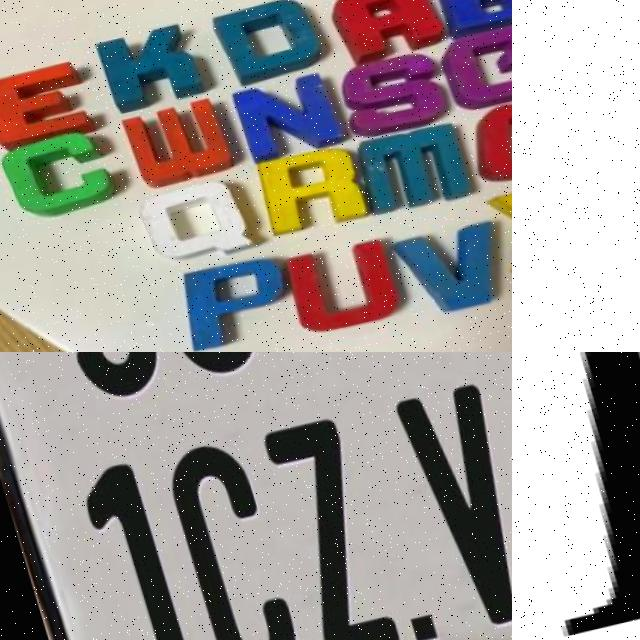1: (63, 456, 192, 640)
4: (492, 359, 512, 613)
5: (14, 352, 162, 408)
A: (318, 0, 447, 66)
B: (428, 0, 512, 42)
C: (148, 434, 301, 640), (0, 126, 112, 220)
D: (204, 0, 327, 87)
E: (0, 60, 86, 147)
F: (512, 352, 640, 640)
G: (433, 25, 512, 116)
K: (89, 23, 211, 116)
M: (344, 123, 475, 220)
N: (221, 73, 341, 165)
O: (464, 103, 512, 191)
P: (159, 253, 288, 352)
Q: (133, 177, 251, 271)
R: (245, 147, 360, 240)
S: (334, 51, 447, 143)
T: (512, 0, 640, 336)
U: (271, 235, 400, 339)
V: (381, 385, 512, 640), (381, 223, 504, 323)
W: (111, 97, 237, 192)
X: (475, 184, 512, 275)
Z: (249, 416, 395, 640)
